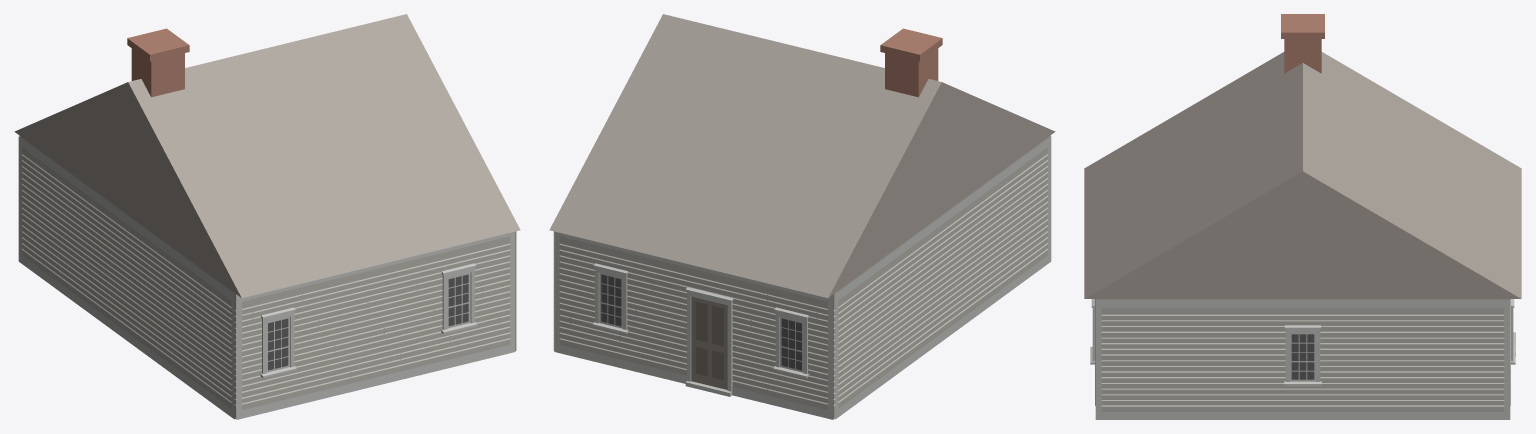
Rendered from recon_1835_blk_west_washington_canal_d5_02__inferred_1835.glb.
3 renders of one model, left to right at view 1: azimuth 30°, elevation 25°; view 2: azimuth 150°, elevation 25°; view 3: azimuth 270°, elevation 25°, orthographic. The views are drawn at different scales.
Visible parts, largest first — view 1: recon_1835_blk_west_washington_canal_d5_02__inferred_1835; view 2: recon_1835_blk_west_washington_canal_d5_02__inferred_1835; view 3: recon_1835_blk_west_washington_canal_d5_02__inferred_1835.
Part boxes in pixels (x1,y1,x2,y2): recon_1835_blk_west_washington_canal_d5_02__inferred_1835: [14, 14, 520, 419]; recon_1835_blk_west_washington_canal_d5_02__inferred_1835: [549, 14, 1055, 419]; recon_1835_blk_west_washington_canal_d5_02__inferred_1835: [1084, 14, 1521, 419].
Bounding box in the file's own units: 7.06 × 6.89 × 9.76.
